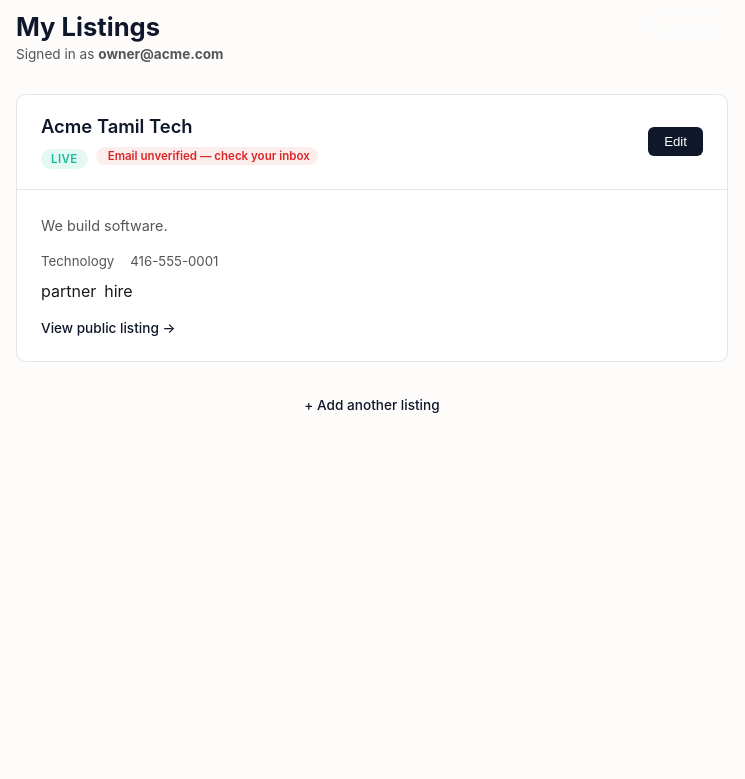
Scenario: DashboardClient — edit flow › shows "Saved ✓" confirmation after successful save
Click the button "Edit". click: (676, 142)
box: [648,128,703,156]
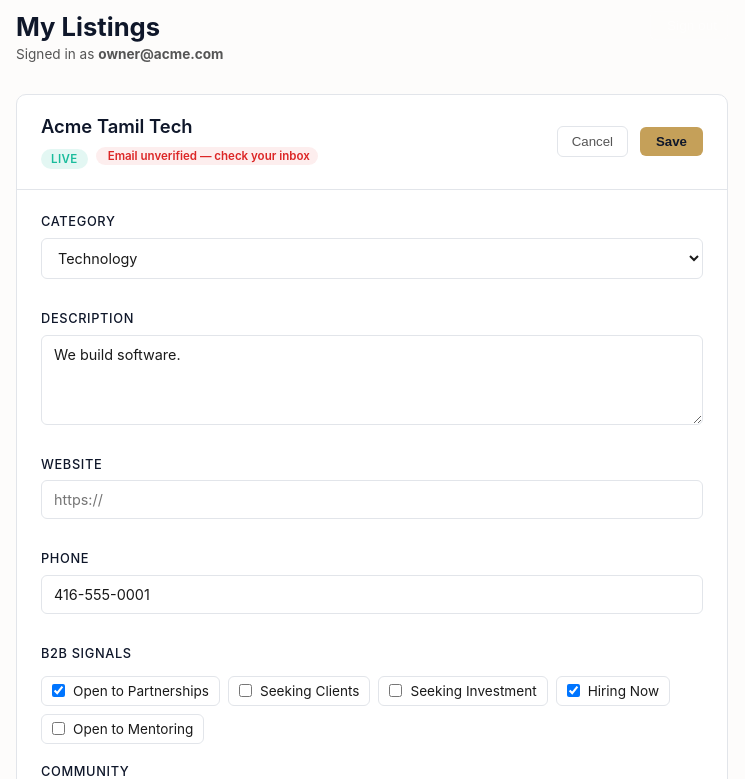
Click the button "Save". click: (672, 142)
box: [640,128,703,156]
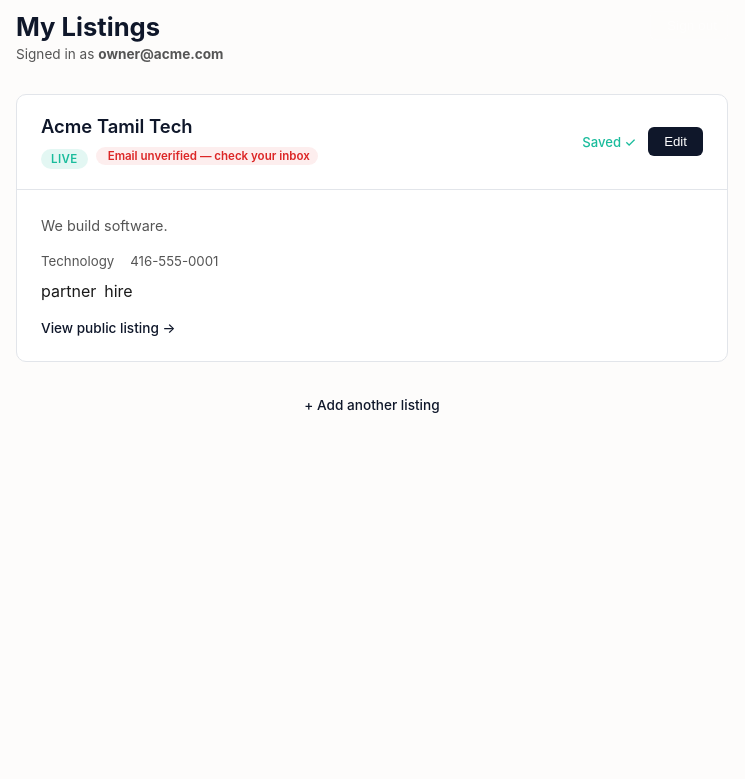
Expected: the text "Saved ✓" is shown, [582,134,636,150]
